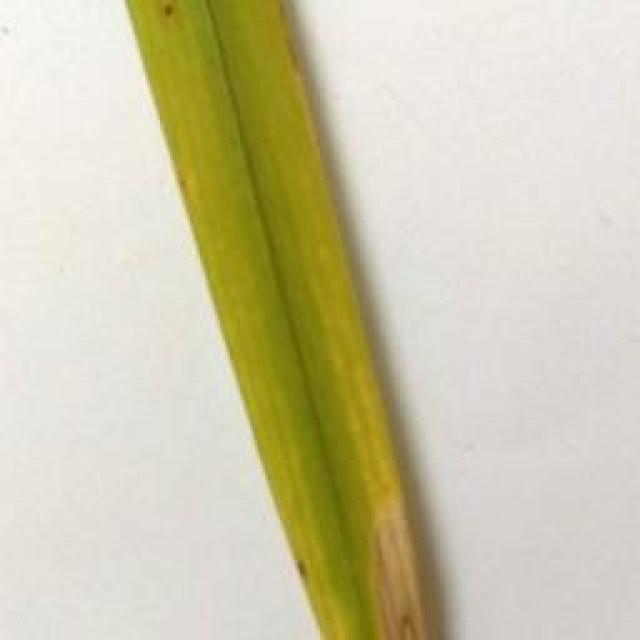Bacterial_Blight: (354, 501, 444, 640)
Brown_Spot: (151, 0, 190, 31), (286, 551, 321, 581)
